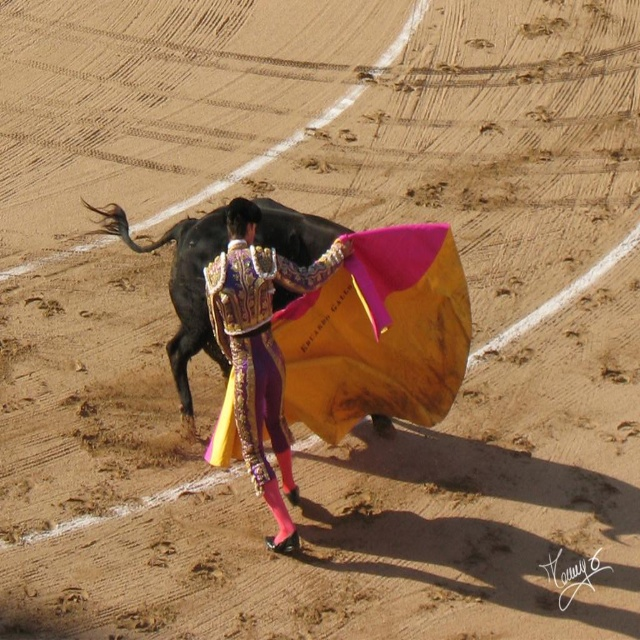Bull: (79, 195, 402, 440)
